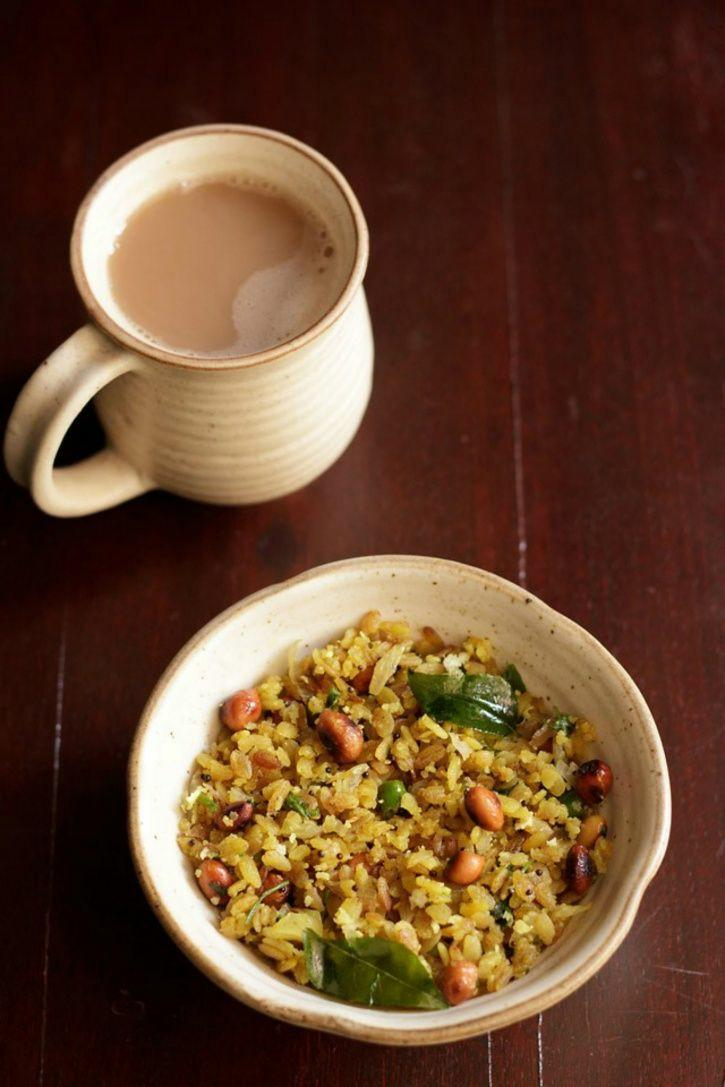Poha: (181, 606, 620, 1015)
